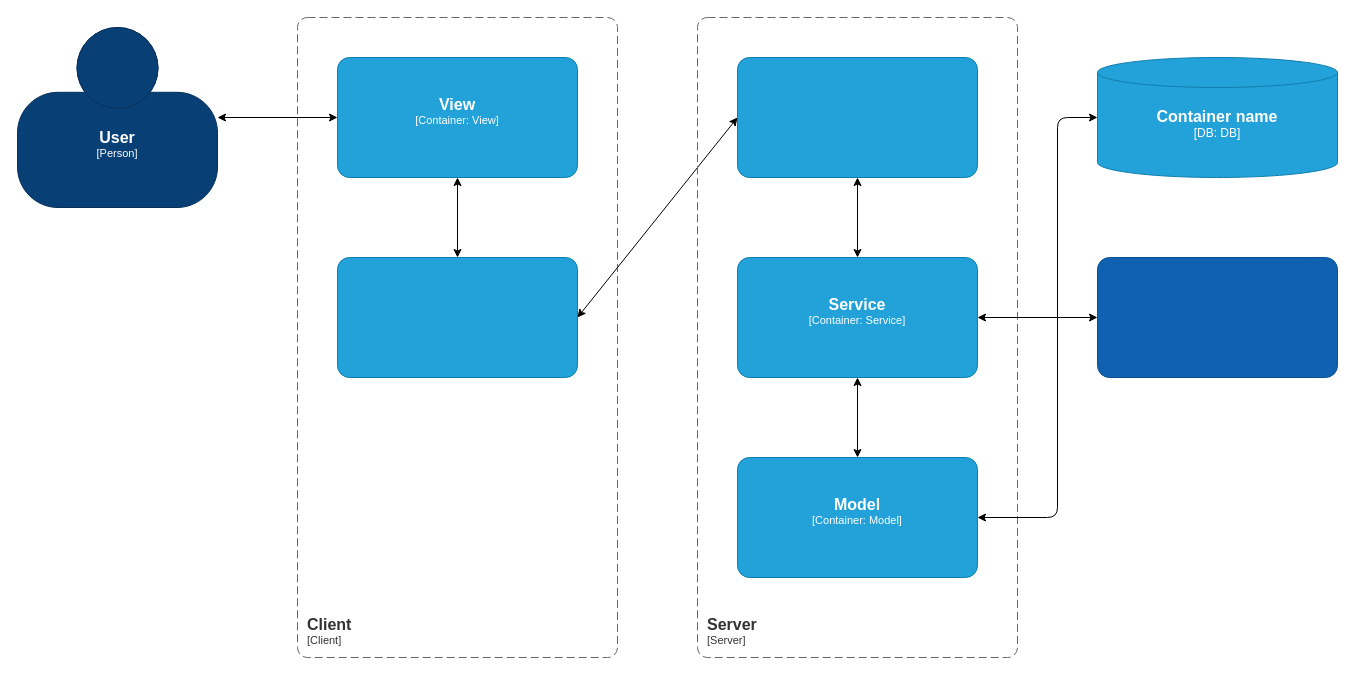
Image size: 1355x675. Some labels were removed from this diagram. The centre of each missing label's shape, as x and y in pixels:
"AWS [AWS]" goes at [1217,317].
"Controller [Container: Controller]" goes at [857,117].
"ViewModel [Container: ViewModel]" goes at [457,317].
